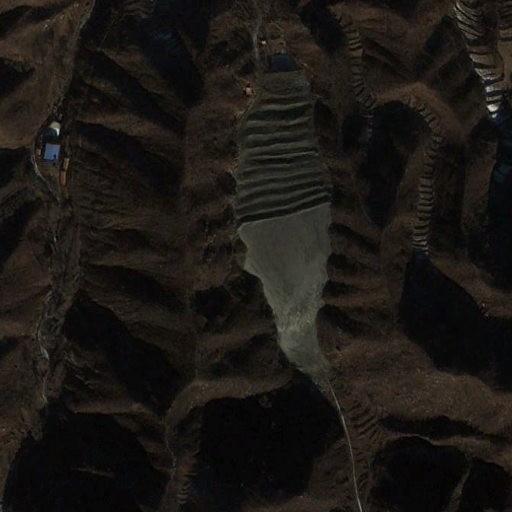tp: (233, 61, 333, 374)
